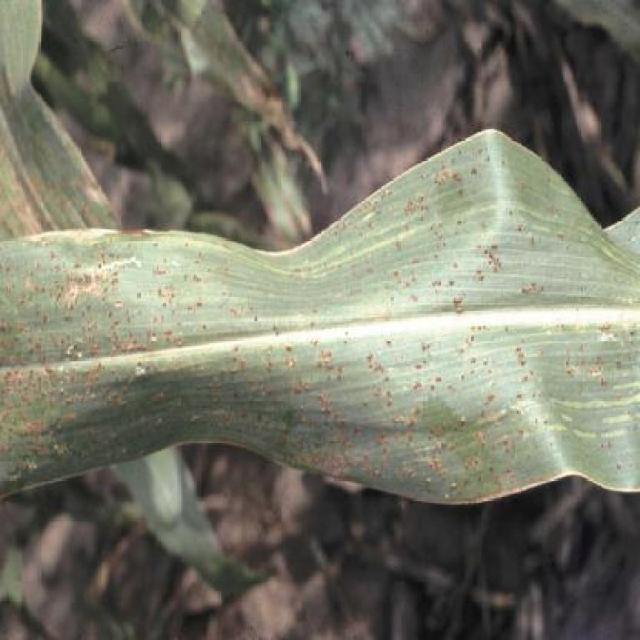Corn_Rust: (0, 137, 640, 517)
